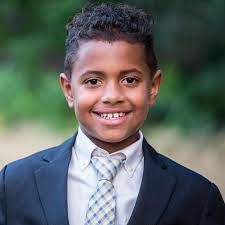person: (57, 4, 163, 146)
